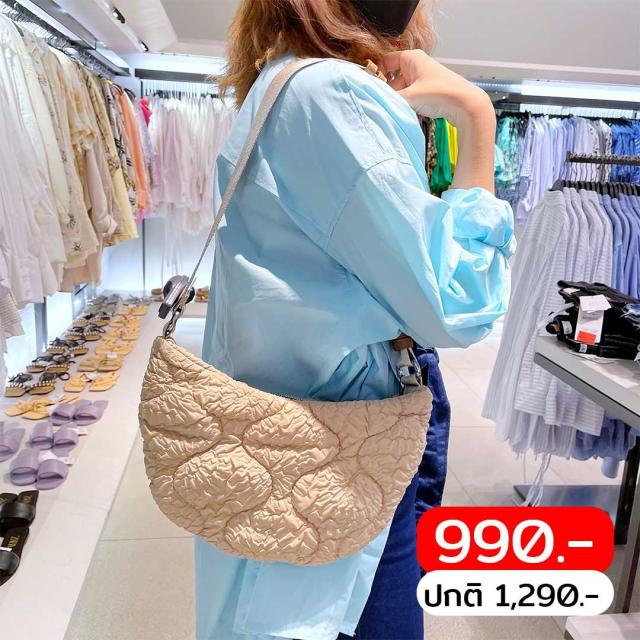handbag: (135, 339, 447, 561)
